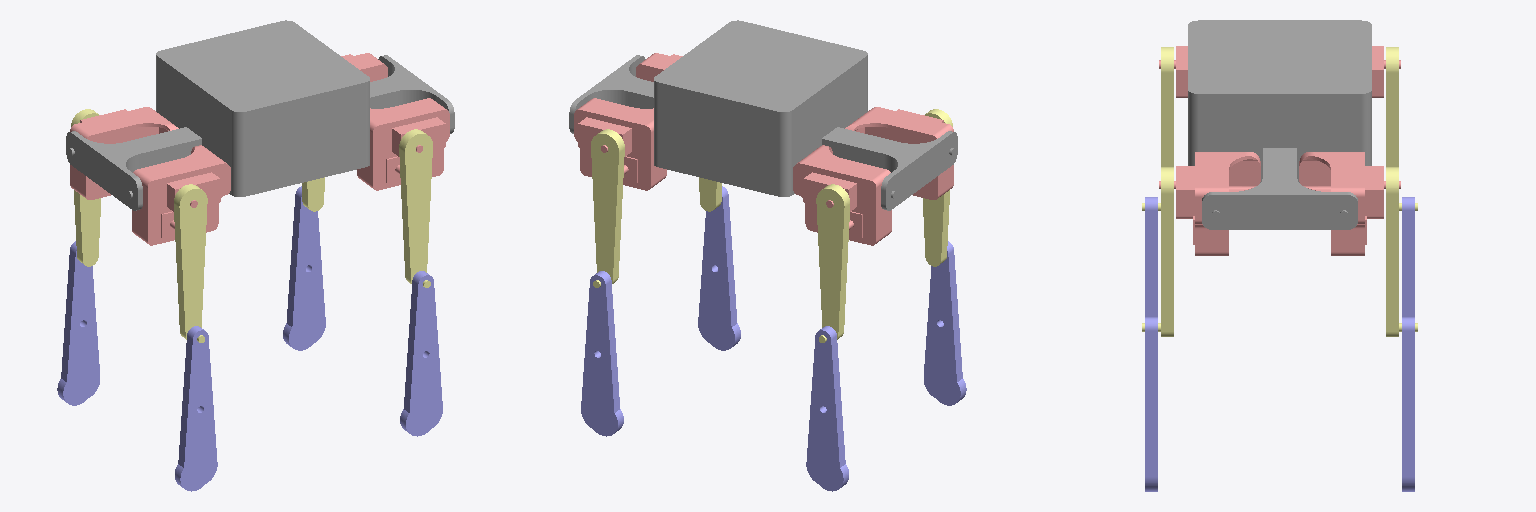
URDF robot description (quadruped):
<?xml version="1.0" ?>
<robot name="quadruped"
    xmlns:xacro="http://www.ros.org/wiki/xacro">

    <link name="base_link">
		<visual>
			<geometry>
				<mesh filename="package://pp_champ_urdf_config/meshes/pp_vm_body.stl" scale="0.001 0.001 0.001"/>
			</geometry>
			<material name="gray">
				<color rgba="0.7 0.7 0.7 0.7"/>
			</material>
		</visual>
	</link>


    <link name="lf_hip_debug_link"/>
    <link name="lf_hip_link">
		<visual>
			<geometry>
				<mesh filename="package://pp_champ_urdf_config/meshes/pp_vm_hip_FL.stl" scale="0.001 0.001 0.001"/>
			</geometry>
			<material name="pink">
				<color rgba="1.0 0.7 0.7 0.7"/>
			</material>
		</visual>
	</link>
    <link name="lf_upper_leg_link">
		<visual>
			<geometry>
				<mesh filename="package://pp_champ_urdf_config/meshes/pp_vm_upperleg_L.stl" scale="0.001 0.001 0.001"/>
			</geometry>
			<material name="yellow">
				<color rgba="1.0 1.0 0.7 0.7"/>
			</material>
		</visual>
	</link>
    <link name="lf_lower_leg_link">
		<visual>
			<geometry>
				<mesh filename="package://pp_champ_urdf_config/meshes/pp_vm_lowerleg_LR.stl" scale="0.001 0.001 0.001"/>
			</geometry>
			<material name="lightblue">
				<color rgba="0.7 0.7 1.0 0.7"/>
			</material>
		</visual>
	</link>
    <link name="lf_foot_link"/>


    <link name="rf_hip_debug_link"/>
    <link name="rf_hip_link">
		<visual>
			<geometry>
				<mesh filename="package://pp_champ_urdf_config/meshes/pp_vm_hip_FR.stl" scale="0.001 0.001 0.001"/>
			</geometry>
			<material name="pink">
				<color rgba="1.0 0.7 0.7 0.7"/>
			</material>
		</visual>
	</link>
    <link name="rf_upper_leg_link">
		<visual>
			<geometry>
				<mesh filename="package://pp_champ_urdf_config/meshes/pp_vm_upperleg_R.stl" scale="0.001 0.001 0.001"/>
			</geometry>
			<material name="yellow">
				<color rgba="1.0 1.0 0.7 0.7"/>
			</material>
		</visual>
	</link>
    <link name="rf_lower_leg_link">
		<visual>
			<geometry>
				<mesh filename="package://pp_champ_urdf_config/meshes/pp_vm_lowerleg_LR.stl" scale="0.001 0.001 0.001"/>
			</geometry>
			<material name="lightblue">
				<color rgba="0.7 0.7 1.0 0.7"/>
			</material>
		</visual>
	</link>
    <link name="rf_foot_link"/>


    <link name="lh_hip_debug_link"/>
    <link name="lh_hip_link">
		<visual>
			<geometry>
				<mesh filename="package://pp_champ_urdf_config/meshes/pp_vm_hip_BL.stl" scale="0.001 0.001 0.001"/>
			</geometry>
			<material name="pink">
				<color rgba="1.0 0.7 0.7 0.7"/>
			</material>
		</visual>
	</link>
    <link name="lh_upper_leg_link">
		<visual>
			<geometry>
				<mesh filename="package://pp_champ_urdf_config/meshes/pp_vm_upperleg_L.stl" scale="0.001 0.001 0.001"/>
			</geometry>
			<material name="yellow">
				<color rgba="1.0 1.0 0.7 0.7"/>
			</material>
		</visual>
	</link>
    <link name="lh_lower_leg_link">
		<visual>
			<geometry>
				<mesh filename="package://pp_champ_urdf_config/meshes/pp_vm_lowerleg_LR.stl" scale="0.001 0.001 0.001"/>
			</geometry>
			<material name="lightblue">
				<color rgba="0.7 0.7 1.0 0.7"/>
			</material>
		</visual>
	</link>
    <link name="lh_foot_link"/>


    <link name="rh_hip_debug_link"/>
    <link name="rh_hip_link">
		<visual>
			<geometry>
				<mesh filename="package://pp_champ_urdf_config/meshes/pp_vm_hip_BR.stl" scale="0.001 0.001 0.001"/>
			</geometry>
			<material name="pink">
				<color rgba="1.0 0.7 0.7 0.7"/>
			</material>
		</visual>
	</link>
    <link name="rh_upper_leg_link">
		<visual>
			<geometry>
				<mesh filename="package://pp_champ_urdf_config/meshes/pp_vm_upperleg_R.stl" scale="0.001 0.001 0.001"/>
			</geometry>
			<material name="yellow">
				<color rgba="1.0 1.0 0.7 0.7"/>
			</material>
		</visual>
	</link>
    <link name="rh_lower_leg_link">
		<visual>
			<geometry>
				<mesh filename="package://pp_champ_urdf_config/meshes/pp_vm_lowerleg_LR.stl" scale="0.001 0.001 0.001"/>
			</geometry>
			<material name="lightblue">
				<color rgba="0.7 0.7 1.0 0.7"/>
			</material>
		</visual>
	</link>
    <link name="rh_foot_link"/>


    <joint name="lf_debug_joint" type="fixed">
        <parent link="base_link"/>
        <child link="lf_hip_debug_link"/>
        <origin rpy="0 0 0" xyz="0.1 0.045 0"/>
    </joint>
    <joint name="lf_hip_joint" type="revolute">
        <axis xyz="1 0 0"/>
        <limit effort="25" lower="-3.14159265359" upper="3.14159265359" velocity="1.5"/>
        <parent link="base_link"/>
        <child link="lf_hip_link"/>
        <origin rpy="0 0 0" xyz="0.1 0.045 0.0"/>
    </joint>
    <joint name="lf_upper_leg_joint" type="revolute">
        <axis xyz="0 1 0"/>
        <limit effort="25" lower="-3.14159265359" upper="3.14159265359" velocity="1.5"/>
        <parent link="lf_hip_link"/>
        <child link="lf_upper_leg_link"/>
        <origin rpy="0 0 0" xyz="0.0 0.045 -0.0"/>
    </joint>
    <joint name="lf_lower_leg_joint" type="revolute">
        <axis xyz="0 1 0"/>
        <limit effort="25" lower="-3.14159265359" upper="3.14159265359" velocity="1.5"/>
        <parent link="lf_upper_leg_link"/>
        <child link="lf_lower_leg_link"/>
        <origin rpy="0 0 0" xyz="0.0 0.0 -0.11"/>
    </joint>
    <joint name="lf_foot_joint" type="fixed">
        <parent link="lf_lower_leg_link"/>
        <child link="lf_foot_link"/>
        <origin rpy="0 0 0" xyz="0.0 0.0 -0.12"/>
    </joint>

    <joint name="rf_debug_joint" type="fixed">
        <parent link="base_link"/>
        <child link="rf_hip_debug_link"/>
        <origin rpy="0 0 0" xyz="0.1 -0.045 0"/>
    </joint>
    <joint name="rf_hip_joint" type="revolute">
        <axis xyz="1 0 0"/>
        <limit effort="25" lower="-3.14159265359" upper="3.14159265359" velocity="1.5"/>
        <parent link="base_link"/>
        <child link="rf_hip_link"/>
        <origin rpy="0 0 0" xyz="0.1 -0.045 0.0"/>
    </joint>
    <joint name="rf_upper_leg_joint" type="revolute">
        <axis xyz="0 1 0"/>
        <limit effort="25" lower="-3.14159265359" upper="3.14159265359" velocity="1.5"/>
        <parent link="rf_hip_link"/>
        <child link="rf_upper_leg_link"/>
        <origin rpy="0 0 0" xyz="0.0 -0.045 -0.0"/>
    </joint>
    <joint name="rf_lower_leg_joint" type="revolute">
        <axis xyz="0 1 0"/>
        <limit effort="25" lower="-3.14159265359" upper="3.14159265359" velocity="1.5"/>
        <parent link="rf_upper_leg_link"/>
        <child link="rf_lower_leg_link"/>
        <origin rpy="0 0 0" xyz="0.0 0.0 -0.11"/>
    </joint>
    <joint name="rf_foot_joint" type="fixed">
        <parent link="rf_lower_leg_link"/>
        <child link="rf_foot_link"/>
        <origin rpy="0 0 0" xyz="0.0 0.0 -0.12"/>
    </joint>

    <joint name="lh_debug_joint" type="fixed">
        <parent link="base_link"/>
        <child link="lh_hip_debug_link"/>
        <origin rpy="0 0 0" xyz="-0.1 0.045 0"/>
    </joint>
    <joint name="lh_hip_joint" type="revolute">
        <axis xyz="1 0 0"/>
        <limit effort="25" lower="-3.14159265359" upper="3.14159265359" velocity="1.5"/>
        <parent link="base_link"/>
        <child link="lh_hip_link"/>
        <origin rpy="0 0 0" xyz="-0.1 0.045 0.0"/>
    </joint>
    <joint name="lh_upper_leg_joint" type="revolute">
        <axis xyz="0 1 0"/>
        <limit effort="25" lower="-3.14159265359" upper="3.14159265359" velocity="1.5"/>
        <parent link="lh_hip_link"/>
        <child link="lh_upper_leg_link"/>
        <origin rpy="0 0 0" xyz="0.0 0.045 -0.0"/>
    </joint>
    <joint name="lh_lower_leg_joint" type="revolute">
        <axis xyz="0 1 0"/>
        <limit effort="25" lower="-3.14159265359" upper="3.14159265359" velocity="1.5"/>
        <parent link="lh_upper_leg_link"/>
        <child link="lh_lower_leg_link"/>
        <origin rpy="0 0 0" xyz="0.0 0.0 -0.11"/>
    </joint>
    <joint name="lh_foot_joint" type="fixed">
        <parent link="lh_lower_leg_link"/>
        <child link="lh_foot_link"/>
        <origin rpy="0 0 0" xyz="0.0 0.0 -0.12"/>
    </joint>

    <joint name="rh_debug_joint" type="fixed">
        <parent link="base_link"/>
        <child link="rh_hip_debug_link"/>
        <origin rpy="0 0 0" xyz="-0.1 -0.045 0"/>
    </joint>
    <joint name="rh_hip_joint" type="revolute">
        <axis xyz="1 0 0"/>
        <limit effort="25" lower="-3.14159265359" upper="3.14159265359" velocity="1.5"/>
        <parent link="base_link"/>
        <child link="rh_hip_link"/>
        <origin rpy="0 0 0" xyz="-0.1 -0.045 0.0"/>
    </joint>
    <joint name="rh_upper_leg_joint" type="revolute">
        <axis xyz="0 1 0"/>
        <limit effort="25" lower="-3.14159265359" upper="3.14159265359" velocity="1.5"/>
        <parent link="rh_hip_link"/>
        <child link="rh_upper_leg_link"/>
        <origin rpy="0 0 0" xyz="0.0 -0.045 -0.0"/>
    </joint>
    <joint name="rh_lower_leg_joint" type="revolute">
        <axis xyz="0 1 0"/>
        <limit effort="25" lower="-3.14159265359" upper="3.14159265359" velocity="1.5"/>
        <parent link="rh_upper_leg_link"/>
        <child link="rh_lower_leg_link"/>
        <origin rpy="0 0 0" xyz="0.0 0.0 -0.11"/>
    </joint>
    <joint name="rh_foot_joint" type="fixed">
        <parent link="rh_lower_leg_link"/>
        <child link="rh_foot_link"/>
        <origin rpy="0 0 0" xyz="0.0 0.0 -0.12"/>
    </joint>
</robot>

--- What the picture shows (computed from the rendered views, not written in the file) ---
3 views of the same robot in one strip: view 1: azimuth 30°, elevation 25°; view 2: azimuth 150°, elevation 25°; view 3: azimuth 270°, elevation 25° (orthographic).
Robot: quadruped — 21 links, 20 joints (12 revolute, 8 fixed); root link base_link; default pose: all joints at 0.
Links seen in each view (by area): view 1: base_link, rh_hip_link, rf_lower_leg_link, rh_lower_leg_link, rf_hip_link, lf_lower_leg_link, lh_lower_leg_link, rf_upper_leg_link, rh_upper_leg_link, lh_hip_link, lh_upper_leg_link, lf_hip_link (+1 smaller); view 2: base_link, lh_hip_link, lf_lower_leg_link, lh_lower_leg_link, lf_hip_link, rf_lower_leg_link, rh_lower_leg_link, lf_upper_leg_link, lh_upper_leg_link, rh_hip_link, rh_upper_leg_link, rf_hip_link (+1 smaller); view 3: base_link, lf_hip_link, rf_hip_link, lf_lower_leg_link, rf_lower_leg_link, lf_upper_leg_link, rf_upper_leg_link, lh_upper_leg_link, rh_upper_leg_link, lh_lower_leg_link, rh_lower_leg_link, lh_hip_link (+1 smaller).
Link boxes in pixels (box(x1,y1,x2,y2)): base_link: box(66, 20, 454, 210); rh_hip_link: box(132, 145, 230, 245); rf_lower_leg_link: box(400, 271, 442, 436); rh_lower_leg_link: box(175, 326, 217, 491); rf_hip_link: box(357, 98, 449, 190); lf_lower_leg_link: box(283, 186, 325, 350); lh_lower_leg_link: box(57, 241, 99, 405); rf_upper_leg_link: box(399, 129, 432, 287); rh_upper_leg_link: box(174, 184, 207, 342); lh_hip_link: box(70, 107, 178, 199); lh_upper_leg_link: box(71, 109, 100, 266); lf_hip_link: box(341, 53, 387, 81); base_link: box(569, 20, 957, 210); lh_hip_link: box(793, 145, 891, 245); lf_lower_leg_link: box(581, 271, 623, 436); lh_lower_leg_link: box(806, 326, 848, 491); lf_hip_link: box(574, 98, 666, 190); rf_lower_leg_link: box(698, 186, 740, 350); rh_lower_leg_link: box(924, 241, 966, 405); lf_upper_leg_link: box(591, 129, 624, 287); lh_upper_leg_link: box(816, 184, 849, 342); rh_hip_link: box(845, 107, 953, 199); rh_upper_leg_link: box(923, 109, 952, 266); rf_hip_link: box(636, 53, 682, 81); base_link: box(1188, 20, 1371, 229); lf_hip_link: box(1299, 152, 1400, 255); rf_hip_link: box(1159, 152, 1260, 255); lf_lower_leg_link: box(1402, 317, 1414, 491); rf_lower_leg_link: box(1145, 317, 1157, 491); lf_upper_leg_link: box(1386, 167, 1417, 336); rf_upper_leg_link: box(1142, 167, 1173, 336); lh_upper_leg_link: box(1386, 47, 1417, 210); rh_upper_leg_link: box(1142, 47, 1173, 210); lh_lower_leg_link: box(1402, 197, 1414, 316); rh_lower_leg_link: box(1145, 197, 1157, 316); lh_hip_link: box(1372, 46, 1400, 97).
Bounding box of the posed robot: 0.285 × 0.193 × 0.295 m (x, y, z).
13 mesh visuals loaded from 8 distinct referenced files (8 binary STL).
